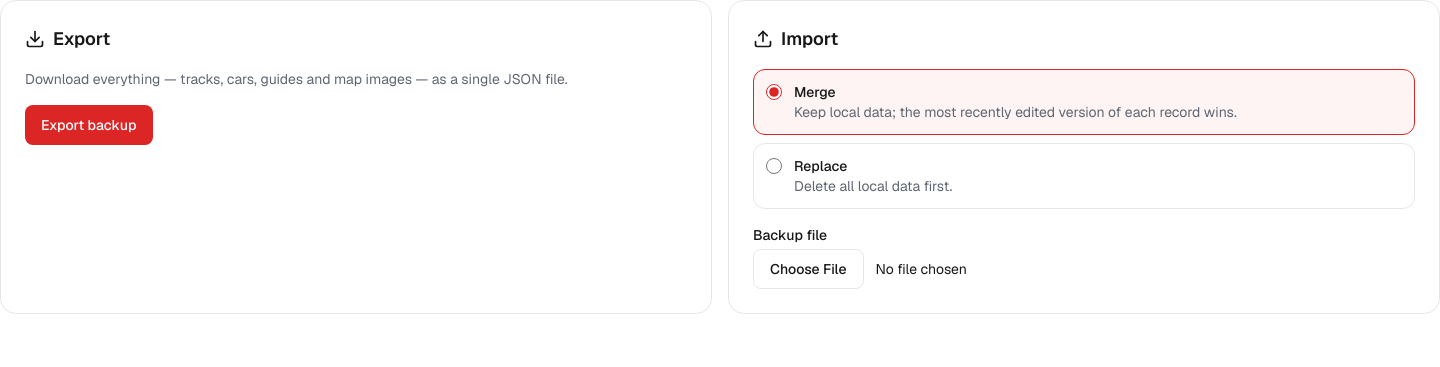
Scenario: BackupPanel › warns before a replace import with a visible note
Click the radio button labelled "Replace Delete all local data first.": [774, 166] box [766,158,782,174]
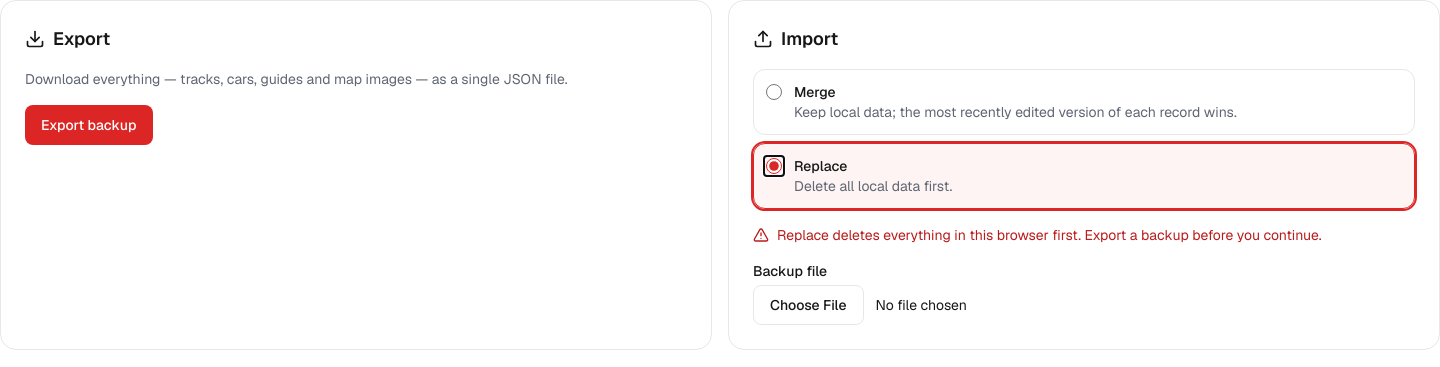
Expected: the text "deletes everything in this browser first" is shown, [777,226,1322,244]
